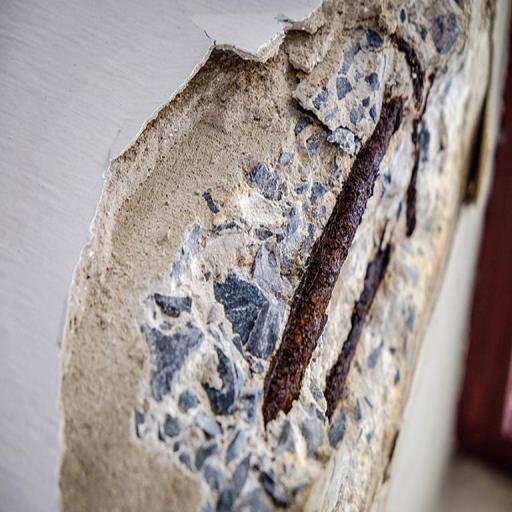spalling: (63, 4, 493, 512)
